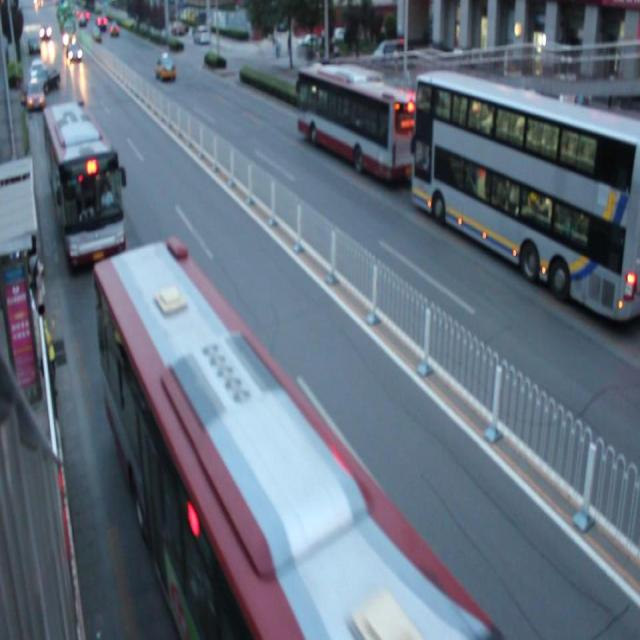car: (26, 80, 46, 110), (155, 55, 176, 81)
van: (96, 253, 482, 640), (415, 74, 640, 321), (296, 66, 420, 181), (42, 103, 125, 263)
